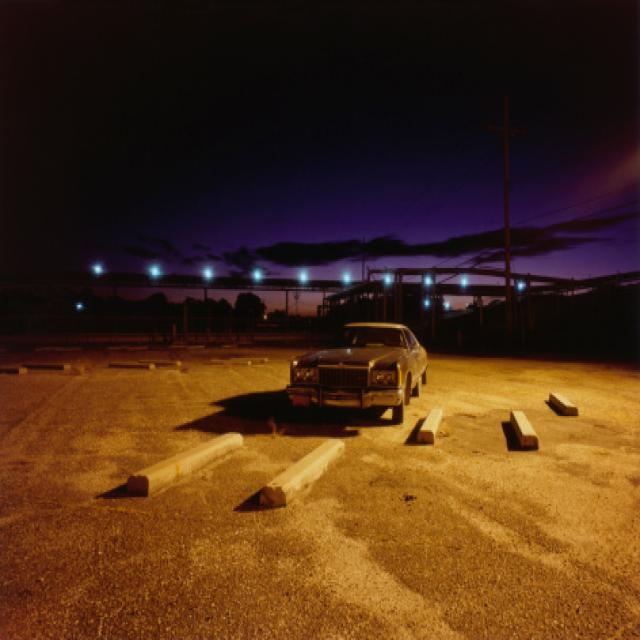Car: (280, 245, 442, 494)
